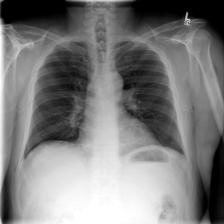normal: (22, 34, 189, 167)
